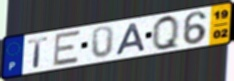0: (90, 25, 116, 60)
6: (182, 10, 209, 46)
A: (114, 21, 148, 57)
E: (51, 29, 82, 68)
Q: (151, 14, 181, 52)
T: (27, 36, 50, 70)
